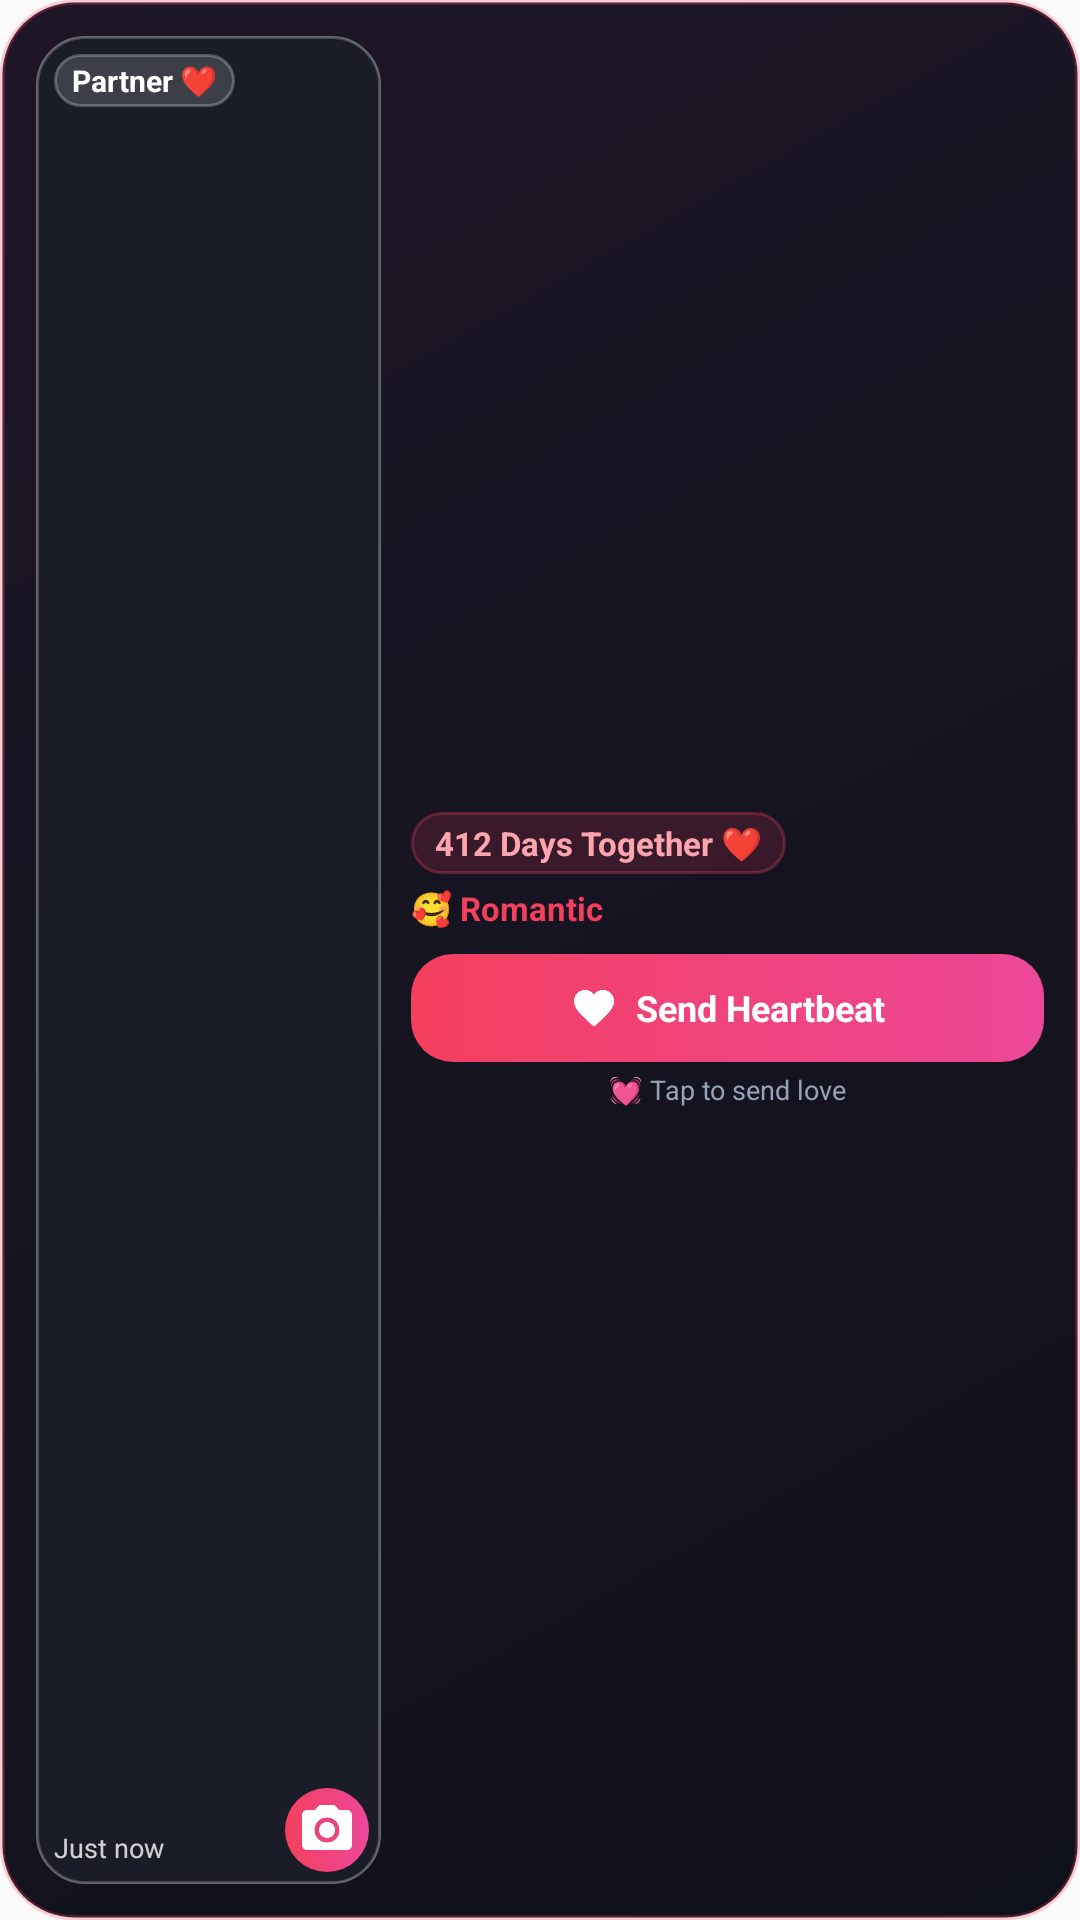

Icon click points for this 1080x1920 phone screenshot, format (x,y):
Snap Photo: (327,1830)
